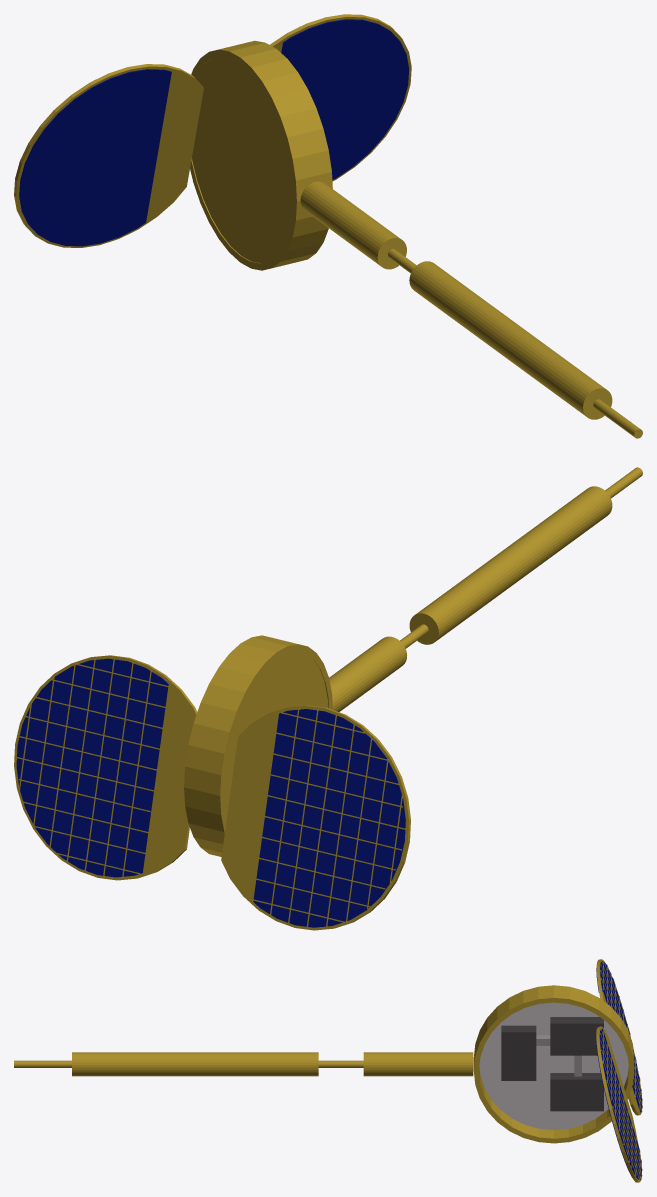
File: orbcomm1_high.gltf
3 renders of one model, top to bottom at view 1: azimuth 30°, elevation 25°; view 2: azimuth 150°, elevation 25°; view 3: azimuth 270°, elevation 25°, orthographic. The views are drawn at different scales.
Parts seen in each view (by area): view 1: Cylinder.005, Cylinder.002, Cylinder.003, Cylinder, Cylinder.007, Cylinder.004, Cylinder.006, Cylinder.001, Cylinder.008; view 2: Cylinder.005, Cylinder.003, Cylinder, Cylinder.004, Cylinder.007, Cylinder.001, Cylinder.002, Cylinder.006, Cylinder.008; view 3: Cylinder.009, Cylinder.007, Cylinder, Cylinder.006, Cube.035, Cube.036, Cylinder.003, Cube.034, Cylinder.001, Cylinder.005, Cylinder.008, Cylinder.004.
Part boxes in pixels (bbox=[...]): Cylinder.005: bbox=[19, 69, 171, 246]; Cylinder.002: bbox=[192, 56, 293, 263]; Cylinder.003: bbox=[281, 19, 409, 179]; Cylinder: bbox=[190, 40, 332, 270]; Cylinder.007: bbox=[409, 261, 612, 419]; Cylinder.004: bbox=[14, 64, 203, 247]; Cylinder.006: bbox=[300, 181, 406, 269]; Cylinder.001: bbox=[270, 14, 411, 181]; Cylinder.008: bbox=[388, 249, 642, 438]; Cylinder.005: bbox=[253, 709, 405, 927]; Cylinder.003: bbox=[16, 658, 168, 877]; Cylinder: bbox=[184, 635, 332, 856]; Cylinder.004: bbox=[221, 705, 410, 930]; Cylinder.007: bbox=[409, 486, 612, 644]; Cylinder.001: bbox=[14, 655, 197, 880]; Cylinder.002: bbox=[224, 651, 328, 819]; Cylinder.006: bbox=[329, 636, 406, 711]; Cylinder.008: bbox=[400, 467, 642, 648]; Cylinder.009: bbox=[479, 1002, 628, 1129]; Cylinder.007: bbox=[72, 1052, 318, 1076]; Cylinder: bbox=[473, 985, 634, 1143]; Cylinder.006: bbox=[363, 1052, 473, 1076]; Cube.035: bbox=[550, 1073, 603, 1111]; Cube.036: bbox=[501, 1025, 536, 1080]; Cylinder.003: bbox=[596, 1028, 641, 1179]; Cube.034: bbox=[550, 1017, 603, 1055]; Cylinder.001: bbox=[596, 1026, 641, 1182]; Cylinder.005: bbox=[596, 961, 642, 1112]; Cylinder.008: bbox=[14, 1060, 363, 1067]; Cylinder.004: bbox=[596, 959, 641, 1115].
Bounding box in the file's own units: 4.01 × 2.07 × 7.83.
